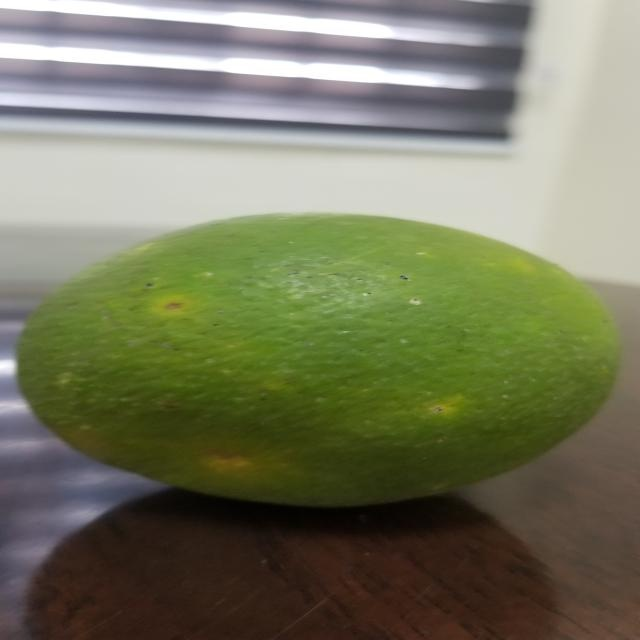agrume: (6, 190, 640, 520)
